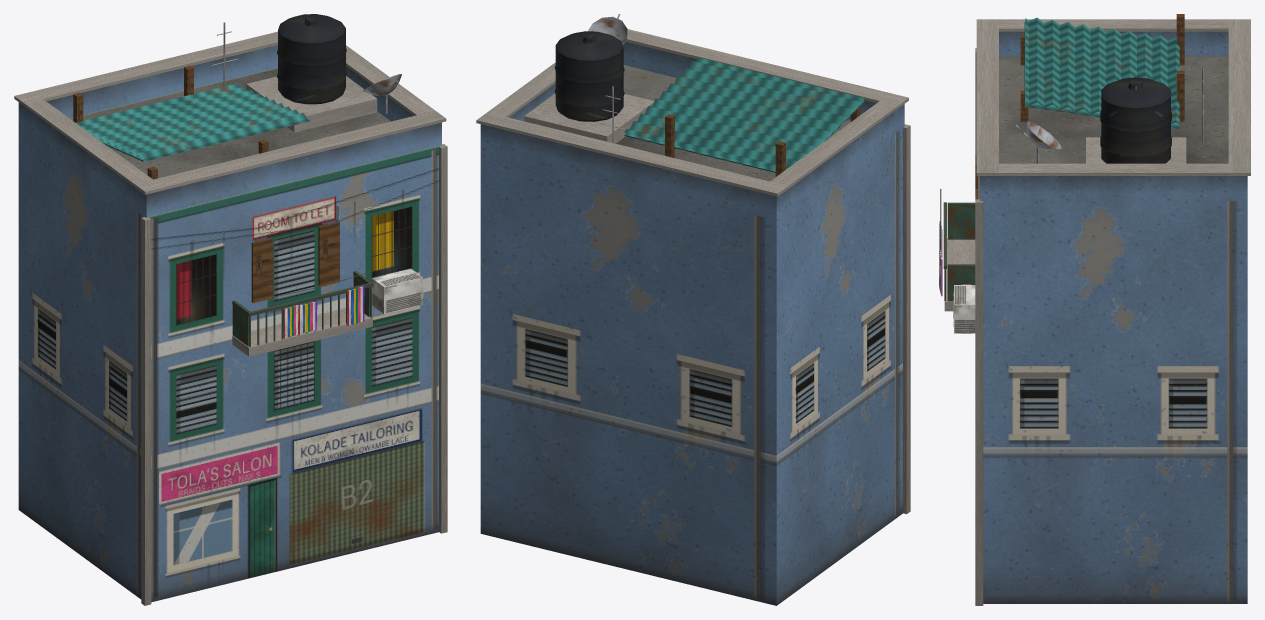
The model's file is env_building_d.glb.
3 renders of one model, left to right at view 1: azimuth 30°, elevation 25°; view 2: azimuth 150°, elevation 25°; view 3: azimuth 270°, elevation 25°, orthographic. The views are drawn at different scales.
Parts seen in each view (by area): view 1: env_building_d_body; view 2: env_building_d_body; view 3: env_building_d_body.
Part boxes in pixels (left/top/right/bottom): env_building_d_body: left=14, top=14, right=447, bottom=605; env_building_d_body: left=476, top=14, right=910, bottom=605; env_building_d_body: left=939, top=14, right=1250, bottom=605.
Size of the model in its own units: 3.28 by 4.88 by 2.8.
1 material, 1 textured.
